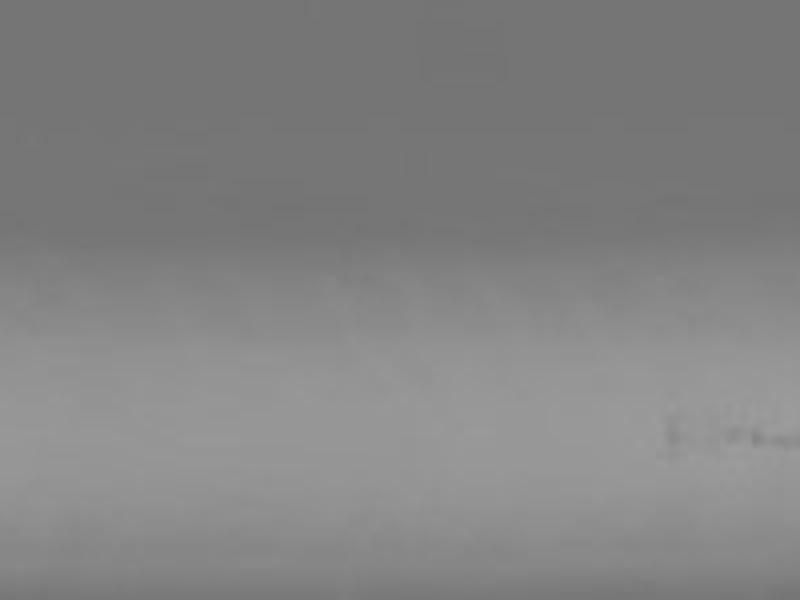defect: (658, 406, 689, 461), (775, 426, 797, 453), (720, 421, 742, 445), (751, 425, 767, 447)
